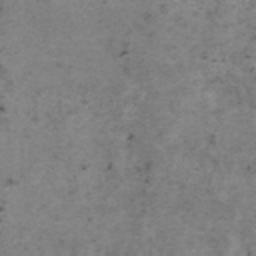Oxide scale of temperature system: (81, 133, 152, 184), (0, 175, 18, 214), (116, 47, 131, 56), (207, 132, 216, 145), (0, 104, 8, 114), (244, 163, 252, 173), (246, 250, 253, 256)
